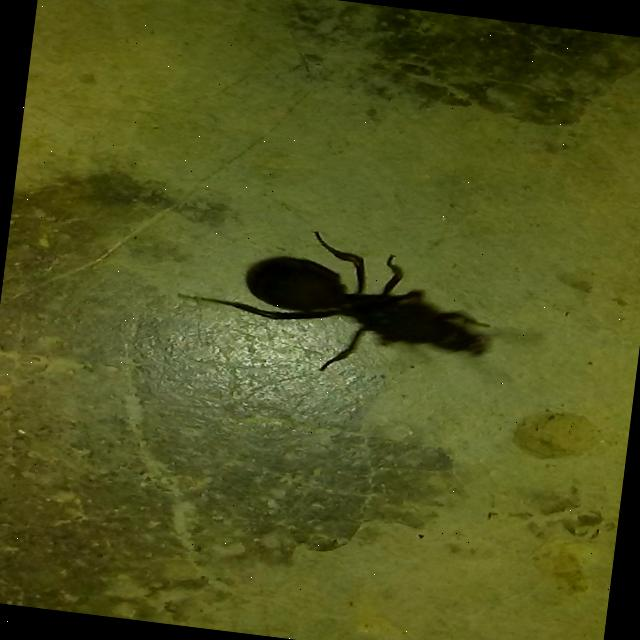Alive-Female-Dealate: (169, 213, 549, 398)
